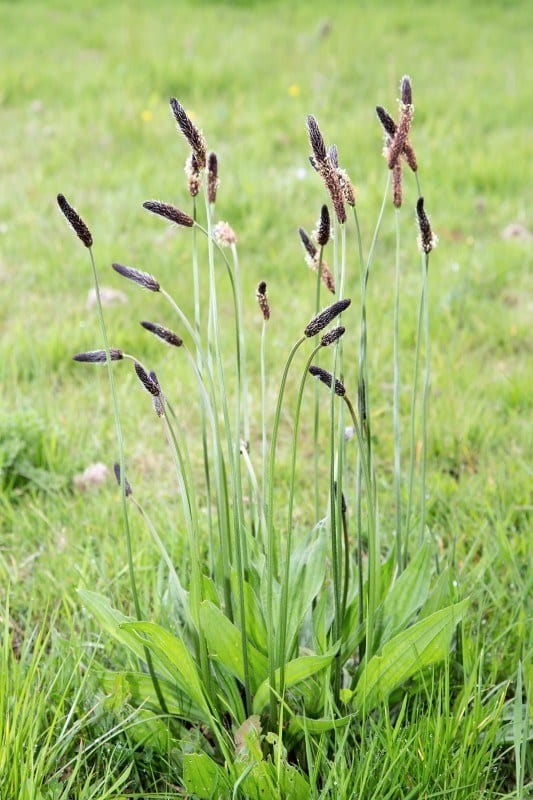buckhorn plantain: (27, 77, 472, 797)
